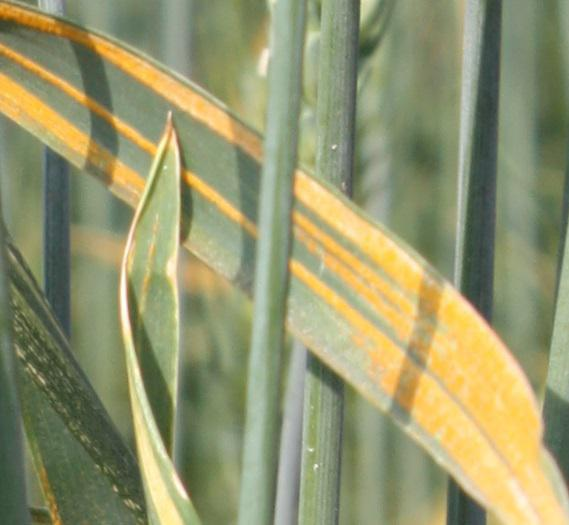Wheat: (309, 179, 542, 486), (0, 3, 263, 163), (0, 66, 145, 203)
